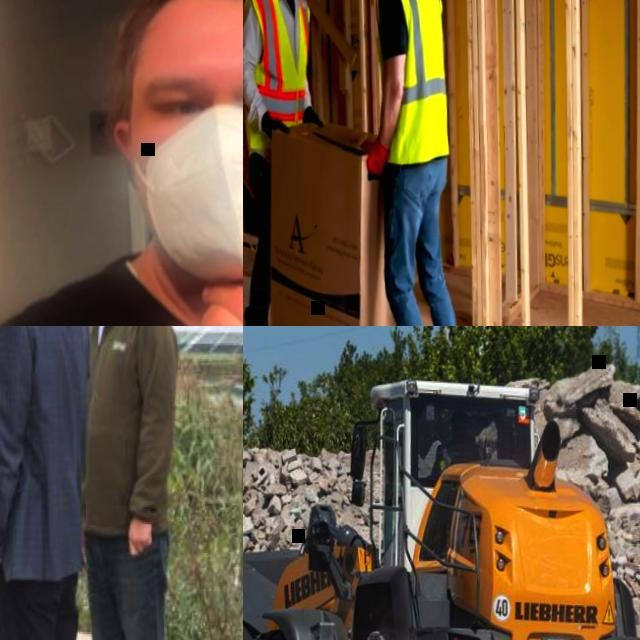Hardhat: (451, 409, 470, 426)
Mask: (137, 101, 243, 279)
NO-Hardhat: (135, 0, 243, 59)
NO-Safety Vest: (0, 326, 91, 580), (6, 255, 243, 326), (81, 326, 159, 537)
Person: (0, 0, 243, 326), (67, 326, 191, 640), (353, 0, 472, 326), (0, 326, 104, 640), (243, 0, 332, 326), (419, 409, 486, 486)
Safety Vest: (371, 0, 453, 164), (243, 0, 315, 144), (438, 438, 484, 473)
machinery: (243, 359, 640, 640)
